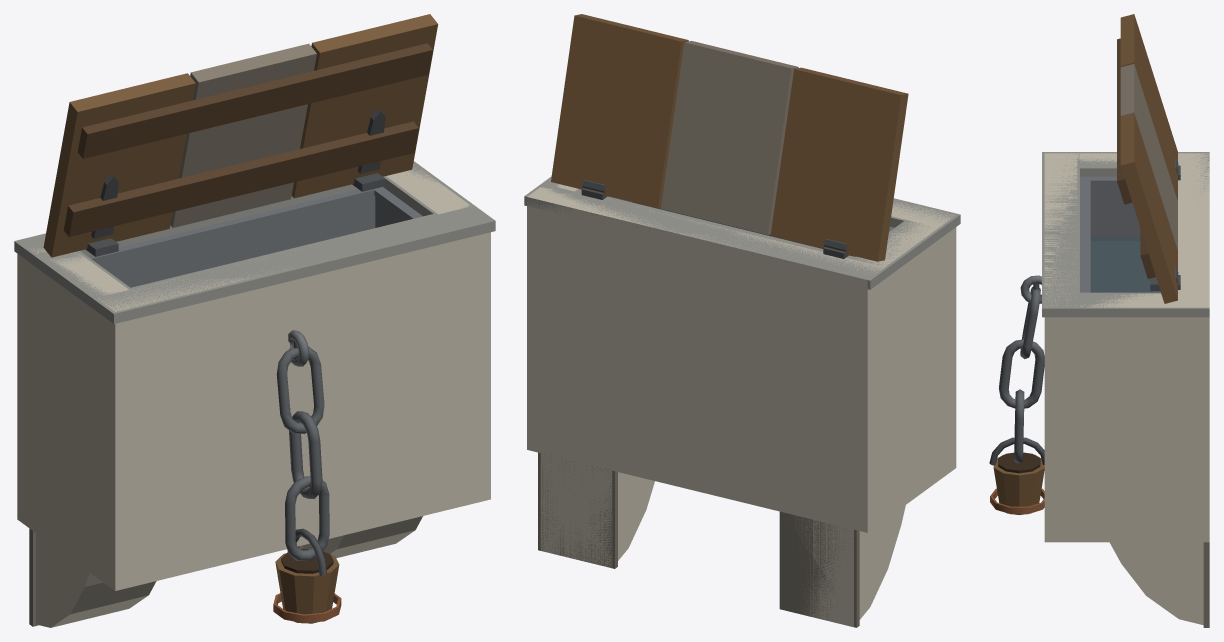
Rendered from SM_LPD_Prison_CellWaterCistern_01.fbx.
The picture shows the model from 3 angles, left to right: view 1: azimuth 30°, elevation 25°; view 2: azimuth 150°, elevation 25°; view 3: azimuth 270°, elevation 25°; orthographic projection. The views are drawn at different scales.
Visible parts, largest first — view 1: SM_LPD_Prison_CellWaterCistern_01; view 2: SM_LPD_Prison_CellWaterCistern_01; view 3: SM_LPD_Prison_CellWaterCistern_01.
Boxes of the visible parts, box(x1,y1,x2,y2) form: SM_LPD_Prison_CellWaterCistern_01: box(14, 14, 495, 627); SM_LPD_Prison_CellWaterCistern_01: box(524, 14, 960, 627); SM_LPD_Prison_CellWaterCistern_01: box(989, 14, 1209, 627).
Size of the model in its own units: 0.63 by 0.8768 by 0.3742.
